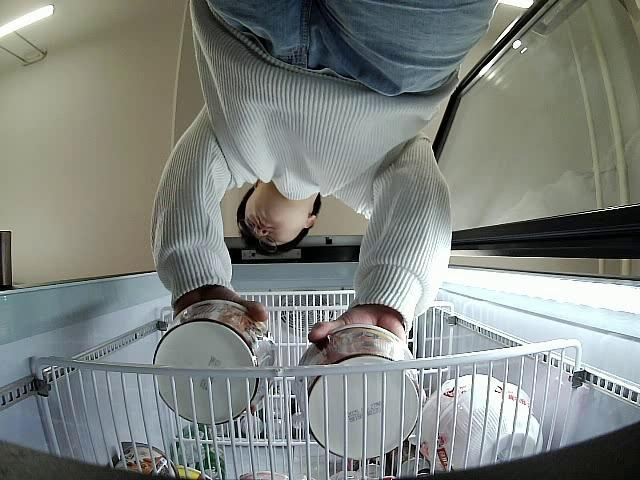05_nuguri_L: (296, 325, 422, 461), (151, 298, 278, 428)
